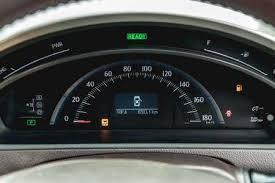Digital_Meter: (115, 108, 161, 116)
